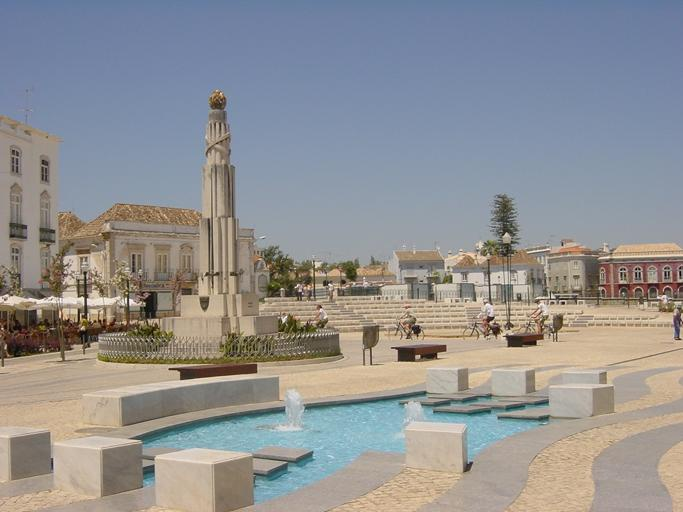non-vehicle: (462, 314, 505, 343), (515, 312, 557, 341), (386, 314, 424, 341), (298, 320, 338, 333)
